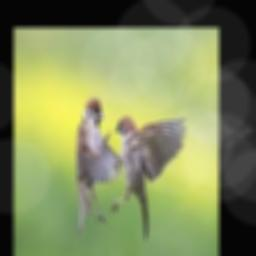Sparrow: (110, 116, 188, 240), (76, 96, 123, 236)
